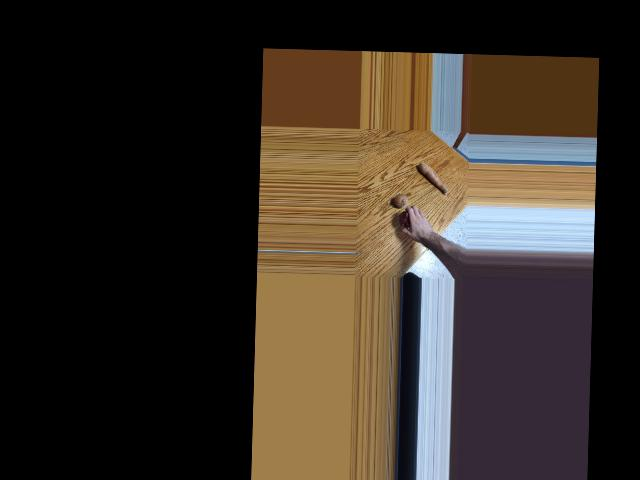onion: (400, 210, 412, 226)
